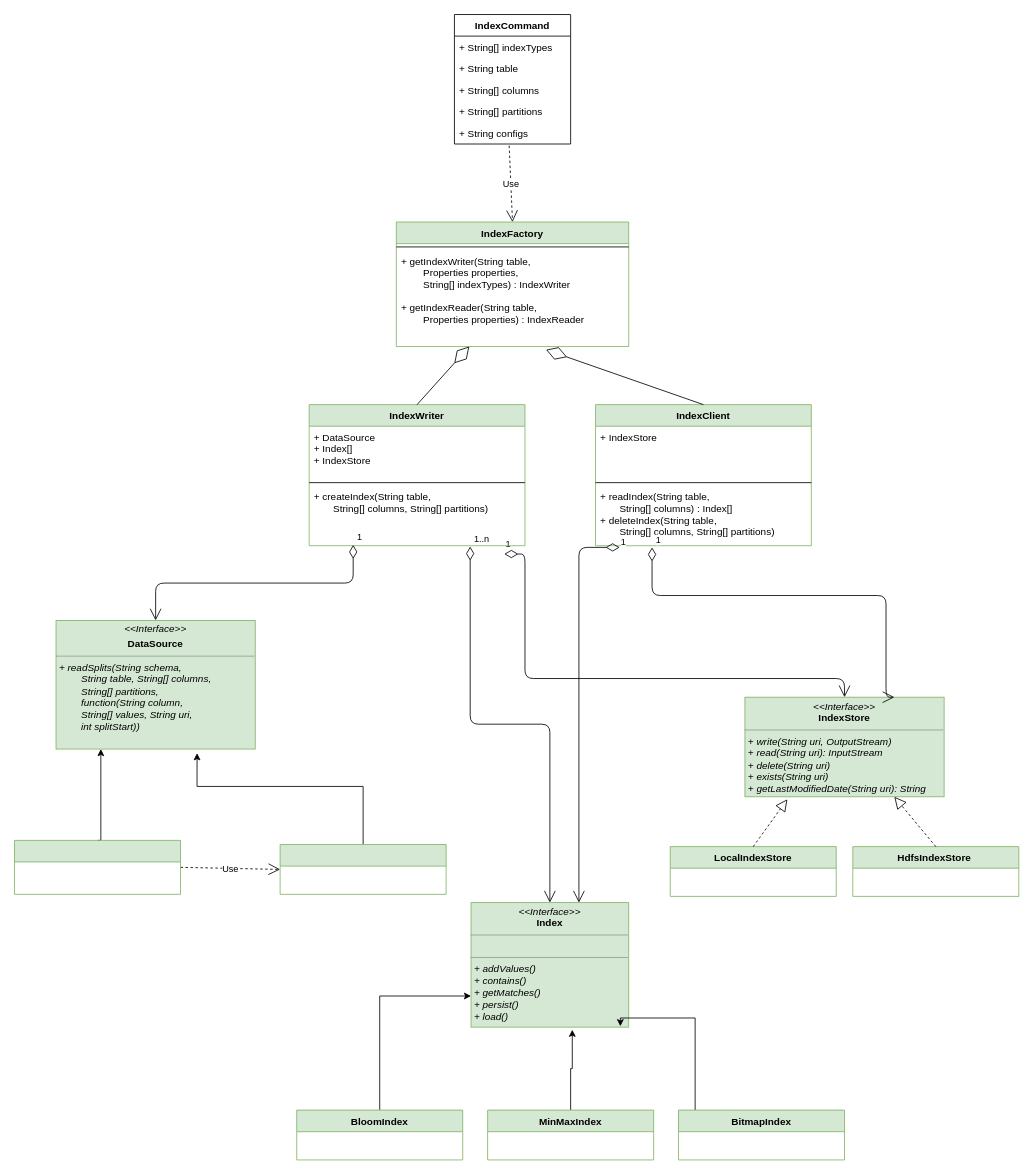
Image size: 1033x1174. Some labels were removed from this diagram. Here are the shapes that lost their labels. From the top down, the centre of each, then its label:
(97,867): HiveDataSource
(362,869): HdfsV2OrcDataSource
